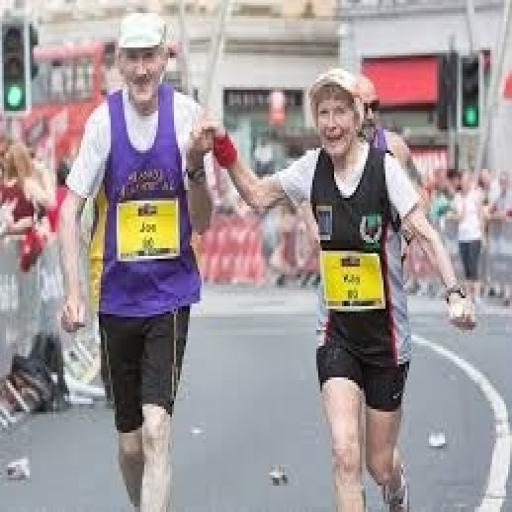running: (196, 66, 478, 509), (56, 10, 220, 510)
